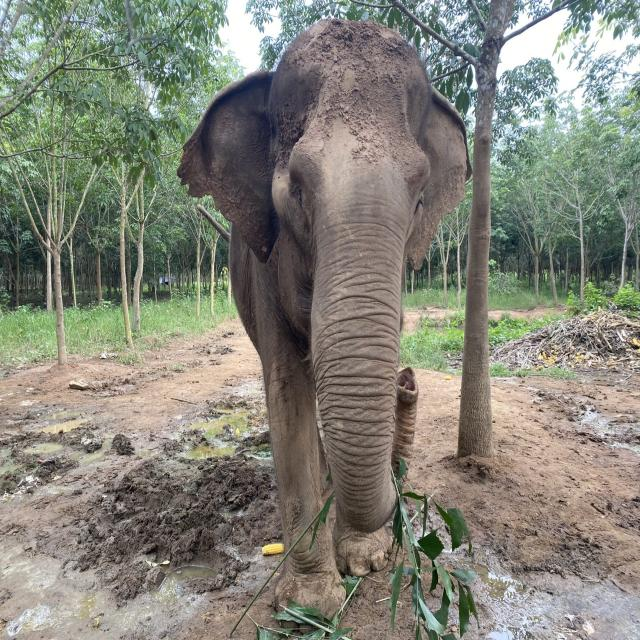Elephant: (153, 0, 557, 640)
